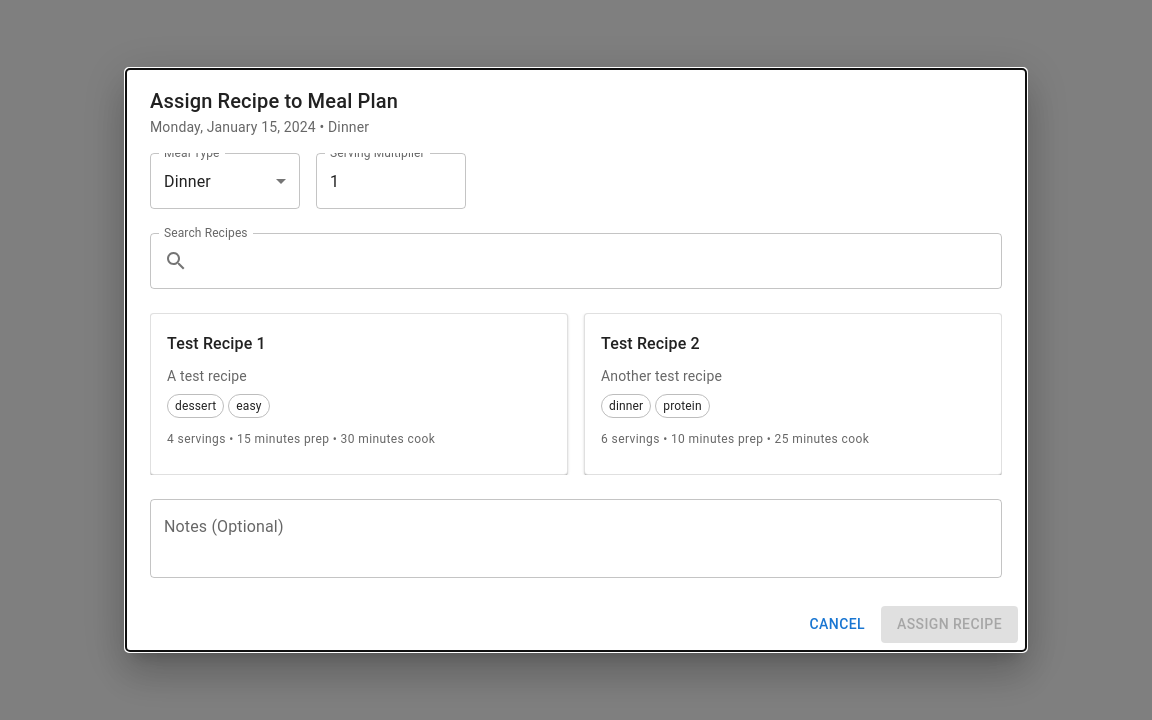
Scenario: RecipeAssignmentDialog › enables assign button when recipe is selected
This screenshot has width=1152, height=720.
Expected: the button with test id "recipe-assignment-assign-button" is disabled, [881,606,1018,643]
Expected: the heading "Test Recipe 1" is shown, [167,334,266,353]
What coordinates should you click on to do the following:
click the element with test id "recipe-card-1"
I would click on:
 (359, 394)
Its box is [150,313,568,475].
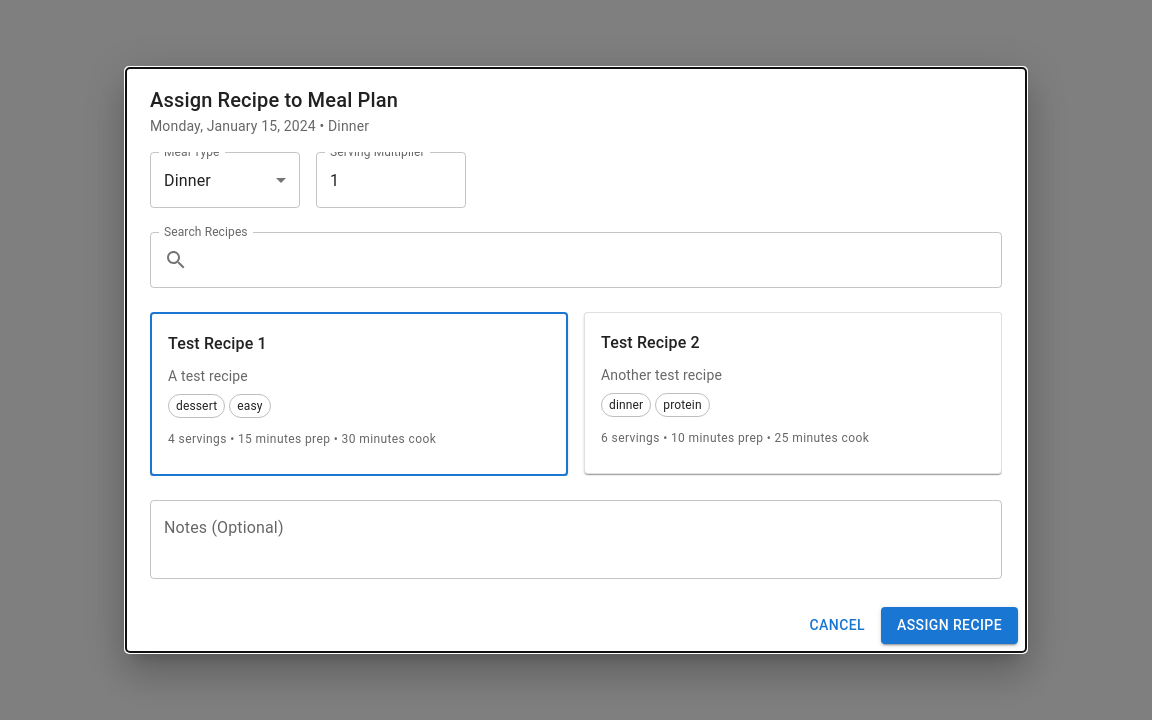
Expected: the button with test id "recipe-assignment-assign-button" is enabled, [881,607,1018,644]
